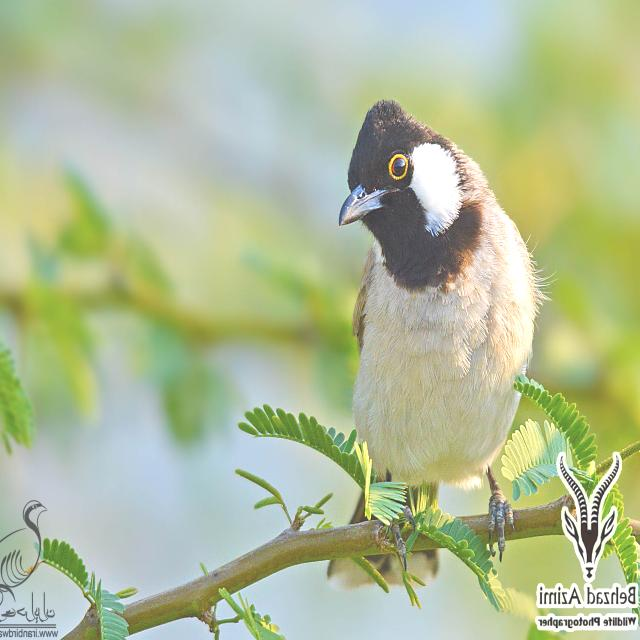bird: (321, 90, 538, 593)
